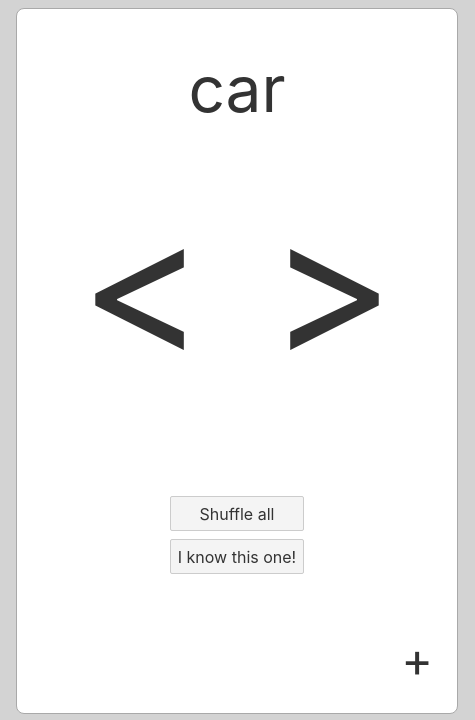
Scenario: App.svelte › cards › shows and hides new word form
This screenshot has width=475, height=720.
Expected: the field with placeholder "english" is not shown
Expected: the field with placeholder "japanese" is not shown
Click the text "+": (417, 660) 401,630 -> 433,689
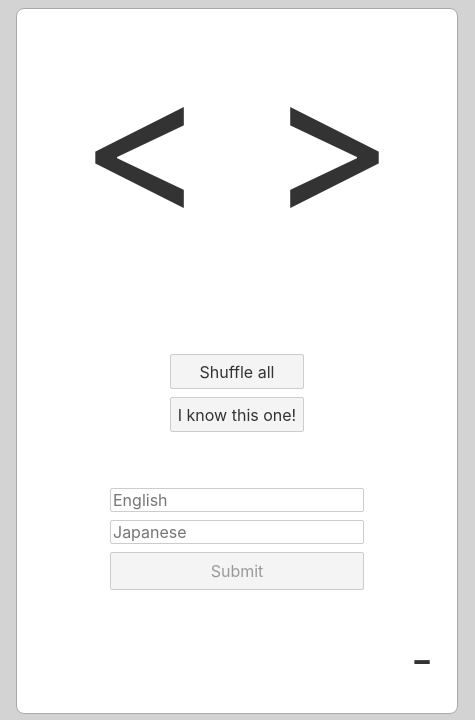
Now the field with placeholder "English" is shown, box 110,488 -> 364,512
Now the field with placeholder "Japanese" is shown, box 110,520 -> 364,544
Now the button "Submit" is shown, box 110,552 -> 364,590
Click the text "-": (422, 660) 411,630 -> 433,689
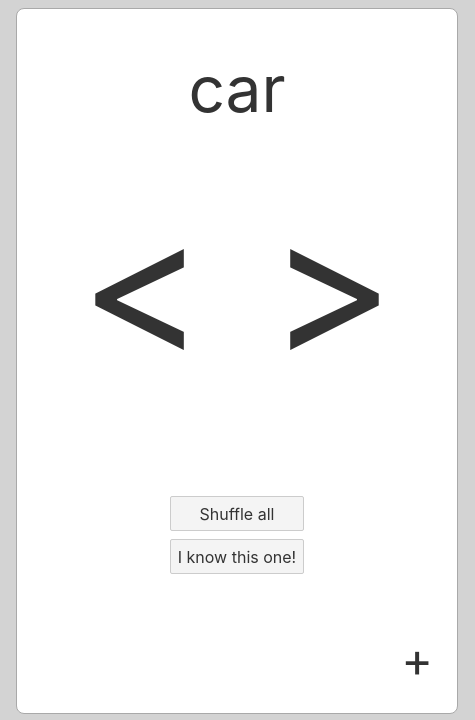
Now the field with placeholder "english" is gone
Now the field with placeholder "japanese" is gone
Now the button "Submit" is gone
